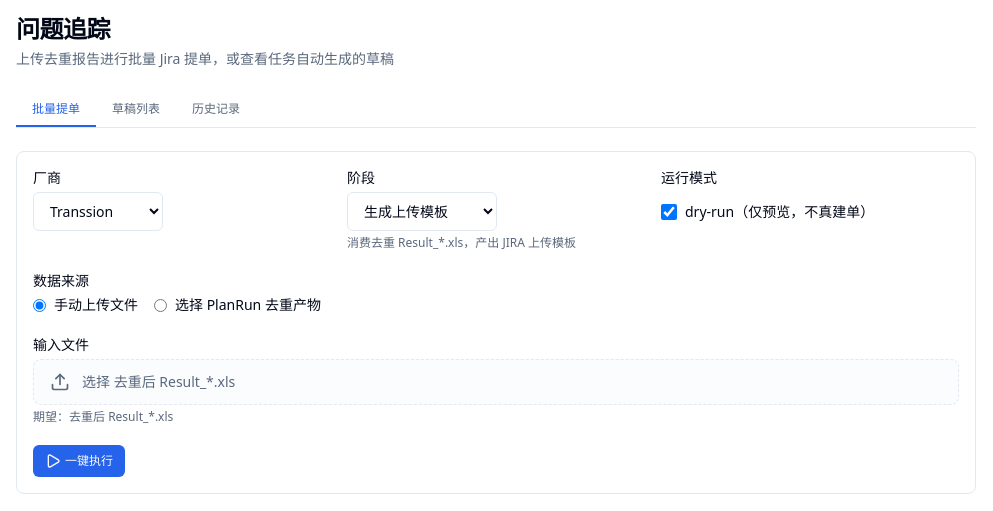
Test case: IssueTrackerPage › #1532: 草稿列表单请求取数，不再逐 PlanRun × 逐 Job 扇出
Click the tab with test id "issue-tracker-tab-drafts".
click(136, 110)  # box [96, 93, 176, 127]
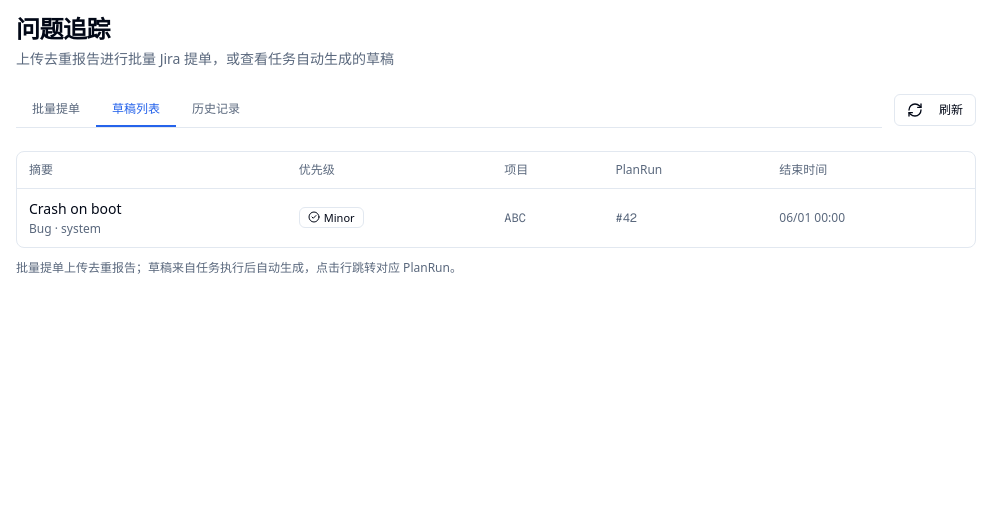
Expected: the text "Crash on boot" is shown, [29, 198, 122, 218]
